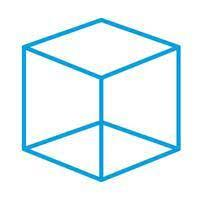cubos: (19, 15, 185, 183)
